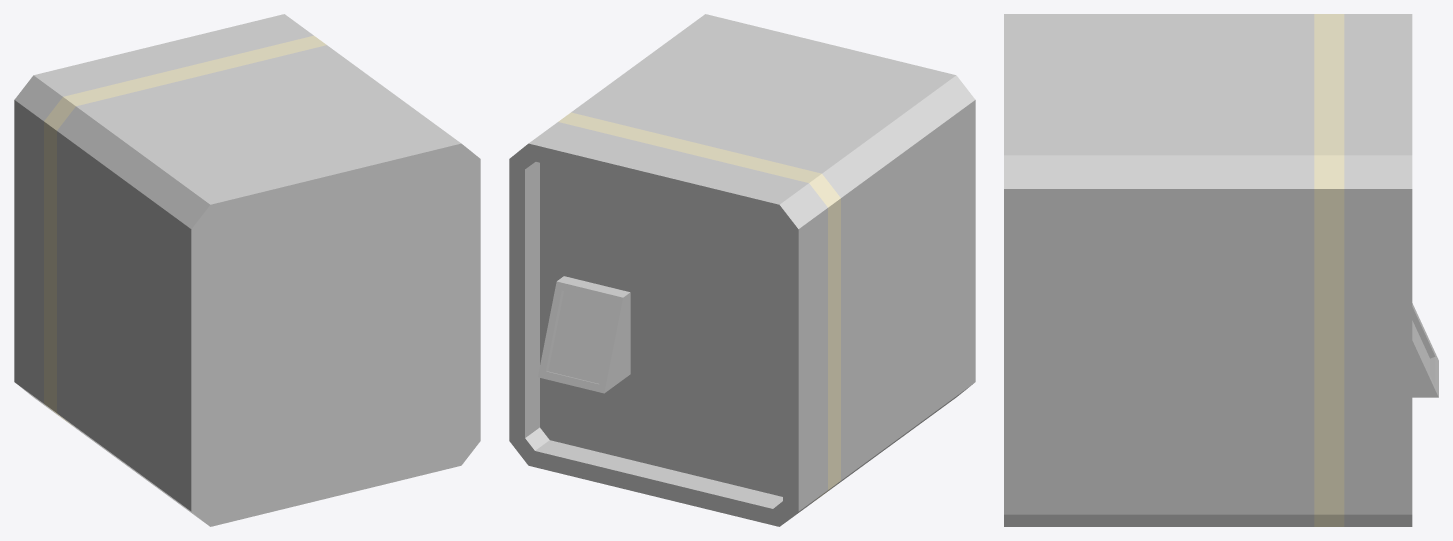
The model's file is tresor.fbx.
3 views of the same model, side by side, from view 1: azimuth 30°, elevation 25°; view 2: azimuth 150°, elevation 25°; view 3: azimuth 270°, elevation 25° (orthographic). The views are drawn at different scales.
Parts seen in each view (by area): view 1: tresor; view 2: tresor; view 3: tresor.
Boxes of the visible parts, x1,y1,x2,y2 form: tresor: (14, 14, 480, 526); tresor: (509, 14, 975, 526); tresor: (1004, 14, 1438, 526).
Size of the model in its own units: 87.27 by 92.94 by 98.52.
